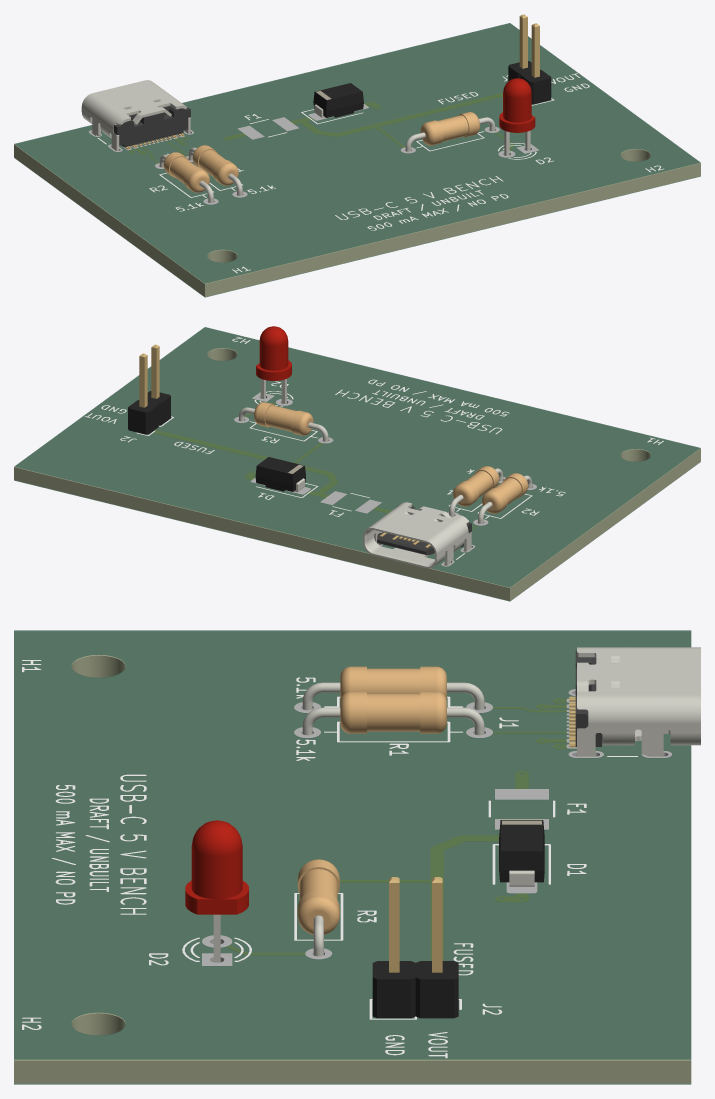
File: usb-c-power.glb
3 views of the same model, one above another, from view 1: azimuth 30°, elevation 25°; view 2: azimuth 150°, elevation 25°; view 3: azimuth 270°, elevation 25° (orthographic). The views are drawn at different scales.
Parts seen in each view (by area): view 1: =>[0:1:1:18], =>[0:1:1:16], =>[0:1:1:5], =>[0:1:1:3] (×3), =>[0:1:1:15], =>[0:1:1:11], =>[0:1:1:9], =>[0:1:1:7], =>[0:1:1:13], =>[0:1:1:12], =>[0:1:1:17]; view 2: =>[0:1:1:18], =>[0:1:1:16], =>[0:1:1:5], =>[0:1:1:3] (×3), =>[0:1:1:15], =>[0:1:1:11], =>[0:1:1:9], =>[0:1:1:7], =>[0:1:1:13], =>[0:1:1:12], =>[0:1:1:17]; view 3: =>[0:1:1:18], =>[0:1:1:16], =>[0:1:1:5], =>[0:1:1:3] (×3), =>[0:1:1:11], =>[0:1:1:15], =>[0:1:1:9], =>[0:1:1:13], =>[0:1:1:7], =>[0:1:1:12], =>[0:1:1:17].
Boxes of the visible parts, x1,y1,x2,y2 form: =>[0:1:1:18]: (14, 24, 700, 296); =>[0:1:1:16]: (14, 23, 700, 283); =>[0:1:1:5]: (81, 80, 190, 151); =>[0:1:1:3] (×3): (159, 112, 495, 202); =>[0:1:1:15]: (97, 73, 663, 273); =>[0:1:1:11]: (508, 14, 551, 104); =>[0:1:1:9]: (499, 78, 535, 155); =>[0:1:1:7]: (313, 83, 363, 118); =>[0:1:1:13]: (89, 104, 539, 204); =>[0:1:1:12]: (129, 93, 513, 163); =>[0:1:1:17]: (14, 158, 700, 297); =>[0:1:1:18]: (14, 328, 700, 600); =>[0:1:1:16]: (14, 327, 700, 587); =>[0:1:1:5]: (363, 502, 471, 568); =>[0:1:1:3] (×3): (239, 402, 532, 523); =>[0:1:1:15]: (84, 337, 663, 559); =>[0:1:1:11]: (128, 344, 170, 434); =>[0:1:1:9]: (256, 326, 291, 403); =>[0:1:1:7]: (255, 457, 305, 492); =>[0:1:1:13]: (234, 392, 536, 566); =>[0:1:1:12]: (154, 403, 476, 528); =>[0:1:1:17]: (14, 462, 700, 601); =>[0:1:1:18]: (14, 632, 691, 1083); =>[0:1:1:16]: (14, 630, 691, 1059); =>[0:1:1:5]: (569, 647, 700, 756); =>[0:1:1:3] (×3): (297, 666, 484, 956); =>[0:1:1:11]: (372, 877, 458, 1018); =>[0:1:1:15]: (22, 660, 637, 1058); =>[0:1:1:9]: (185, 820, 248, 962); =>[0:1:1:13]: (202, 689, 671, 966); =>[0:1:1:7]: (499, 820, 544, 886); =>[0:1:1:12]: (227, 699, 566, 960); =>[0:1:1:17]: (14, 1083, 691, 1084).
Bounding box in the file's own units: 0.06 × 0.0115 × 0.0406.
